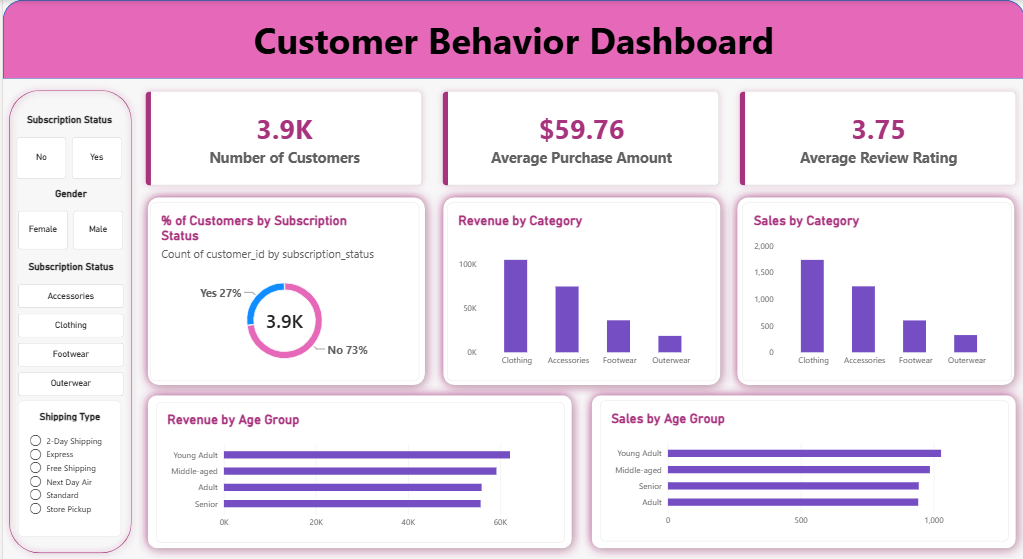

The dashboard page shown, as its layout file describes it:
{"tool":"powerbi","page":{"name":"Page 1","canvas":[1500,820],"ordinal":0},"visuals":[{"type":"cardVisual","fields":{"Data":["public customer.Number of Customers","public customer.Average Purchase Amount","public customer.Average Review Rating"]},"box":[197.8,122.2,1302.2,160],"z":0},{"type":"textbox","box":[1100,71.1,820,120],"z":1000},{"type":"textbox","box":[528.9,448.9,46.7,355.6],"z":2000},{"type":"shape","box":[0,0,1500,115.6],"z":3000},{"type":"textbox","box":[0,22.2,1500,108.9],"z":4000},{"type":"shape","box":[0,122.2,197.8,697.8],"z":5000},{"type":"shape","box":[631.1,275.6,435.6,304.4],"z":6000},{"type":"clusteredColumnChart","title":"Revenue by Category","fields":{"Category":["public customer.category"],"Y":["Sum(public customer.purchase_amount)"]},"box":[651.1,297.8,395.6,262.2],"z":7000},{"type":"shape","box":[197.8,275.6,435.6,304.4],"z":8000},{"type":"donutChart","title":"% of Customers by Subscription Status","fields":{"Category":["public customer.subscription_status"],"Y":["Count(public customer.customer_id)"]},"box":[215.6,297.8,395.6,262.2],"z":9000},{"type":"shape","box":[1064.4,275.6,435.6,304.4],"z":10000},{"type":"clusteredColumnChart","title":"Sales by Category","fields":{"Category":["public customer.category"],"Y":["Count(public customer.customer_id)"]},"box":[1084.4,297.8,395.6,262.2],"z":11000},{"type":"advancedSlicerVisual","title":"Subscription Status","fields":{"Values":["public customer.subscription_status"]},"box":[20,166.7,155.6,95.6],"z":12000},{"type":"advancedSlicerVisual","title":"Gender","fields":{"Values":["public customer.gender"]},"box":[22.2,275.6,155.6,91.1],"z":13000},{"type":"advancedSlicerVisual","title":"Subscription Status","fields":{"Values":["public customer.category"]},"box":[22.2,382.2,155.6,211.1],"z":14000},{"type":"listSlicer","title":"Shipping Type","fields":{"Values":["public customer.shipping_type"]},"box":[22.2,588.9,151.1,200],"z":15000},{"type":"shape","box":[197.8,566.7,651.1,253.3],"z":16000},{"type":"clusteredBarChart","title":"Revenue by Age Group","fields":{"Category":["public customer.age_group"],"Y":["Sum(public customer.purchase_amount)"]},"box":[224.4,591.1,600,206.7],"z":17000},{"type":"shape","box":[848.9,566.7,651.1,253.3],"z":18000},{"type":"clusteredBarChart","title":"Sales by Age Group","fields":{"Category":["public customer.age_group"],"Y":["Count(public customer.customer_id)"]},"box":[875.6,588.9,600,206.7],"z":19000}]}

Visuals, with their boxes in screenshot pixels (x1, y1, x2, y2), scaled from the page's 1500x820 canvas onto the 1023x559 screenshot:
cardVisual - public customer.Number of Customers x public customer.Average Purchase Amount: box(135, 83, 1022, 192)
textbox: box(750, 48, 1022, 130)
textbox: box(361, 306, 393, 548)
shape: box(0, 0, 1022, 79)
textbox: box(0, 15, 1022, 89)
shape: box(0, 83, 135, 558)
shape: box(430, 188, 727, 395)
"Revenue by Category" clusteredColumnChart: box(444, 203, 714, 382)
shape: box(135, 188, 432, 395)
"% of Customers by Subscription Status" donutChart: box(147, 203, 417, 382)
shape: box(726, 188, 1022, 395)
"Sales by Category" clusteredColumnChart: box(740, 203, 1009, 382)
"Subscription Status" advancedSlicerVisual: box(14, 114, 120, 179)
"Gender" advancedSlicerVisual: box(15, 188, 121, 250)
"Subscription Status" advancedSlicerVisual: box(15, 261, 121, 404)
"Shipping Type" listSlicer: box(15, 401, 118, 538)
shape: box(135, 386, 579, 558)
"Revenue by Age Group" clusteredBarChart: box(153, 403, 562, 544)
shape: box(579, 386, 1022, 558)
"Sales by Age Group" clusteredBarChart: box(597, 401, 1006, 542)
